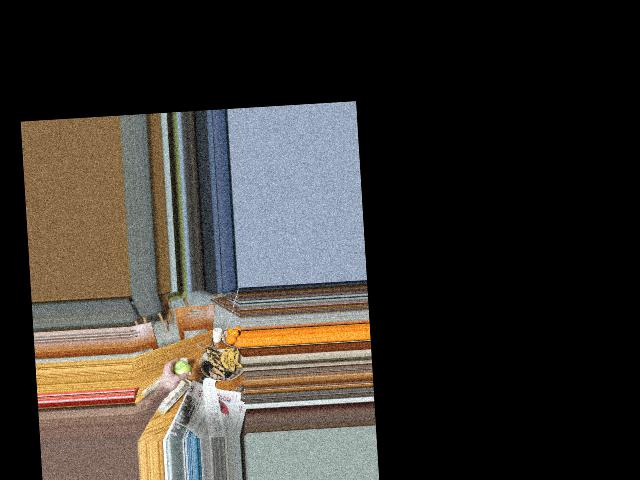apple: (168, 357, 191, 379)
